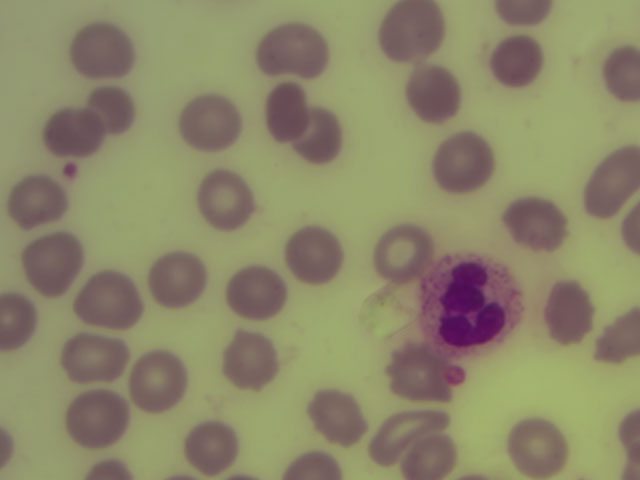Platelets: (444, 365, 468, 384), (61, 161, 82, 176)
RBC: (370, 405, 451, 461), (18, 227, 83, 295), (582, 147, 640, 222), (378, 1, 447, 59), (540, 279, 603, 342), (194, 170, 258, 229), (179, 97, 246, 150), (125, 354, 192, 407), (66, 391, 133, 444), (63, 333, 130, 386), (505, 197, 572, 250), (372, 226, 439, 279), (277, 227, 344, 280), (221, 267, 288, 320), (145, 250, 212, 303), (77, 272, 144, 325), (5, 173, 72, 226), (287, 107, 354, 160), (256, 82, 323, 135), (433, 133, 500, 186), (82, 77, 149, 130), (42, 103, 109, 156), (70, 25, 137, 78), (260, 23, 327, 76), (397, 66, 464, 119), (487, 36, 554, 89), (183, 420, 250, 473), (501, 419, 568, 472), (384, 346, 451, 399), (303, 392, 370, 445), (222, 328, 277, 388), (398, 439, 467, 480), (589, 310, 640, 360), (1, 293, 39, 348), (609, 412, 640, 478), (599, 51, 640, 100), (285, 452, 351, 480), (490, 1, 554, 29), (87, 458, 149, 480), (622, 198, 640, 251)
WBC: (419, 258, 530, 353)
